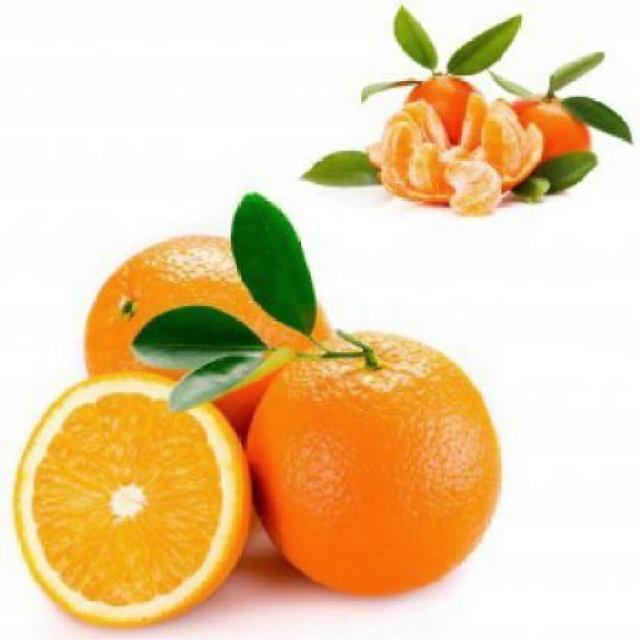Jeruk Sudah Matang: (252, 323, 502, 592), (86, 233, 334, 493)
